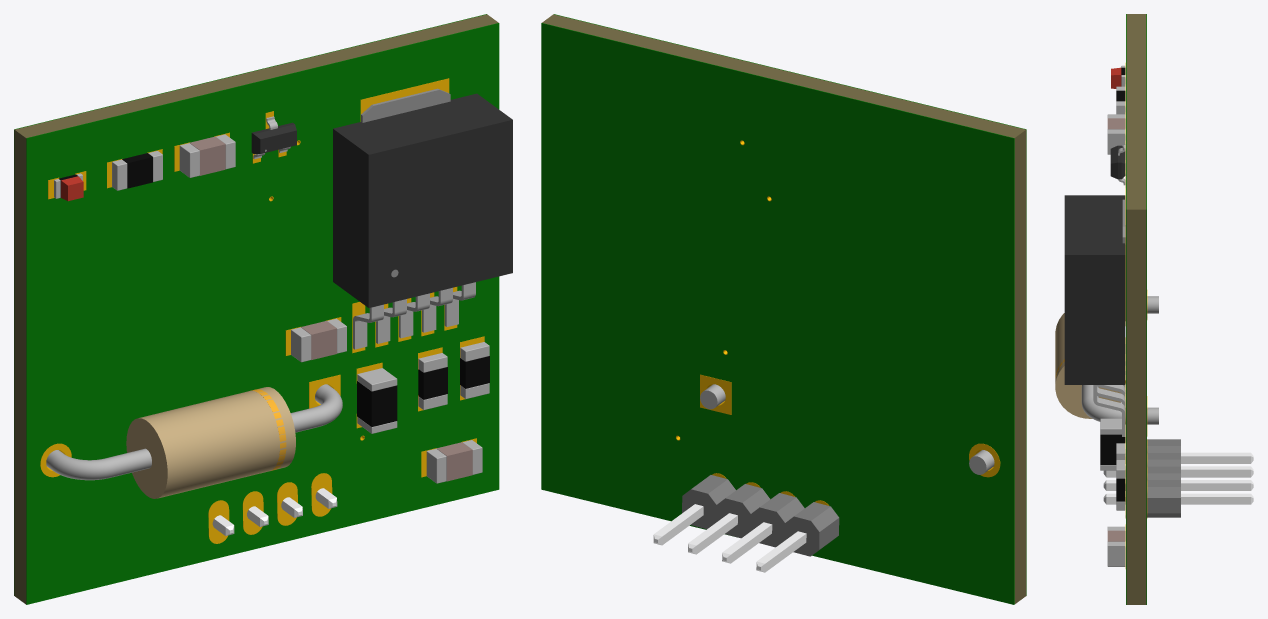
The model's file is Regulator Board.obj.
The picture shows the model from 3 angles, left to right: view 1: azimuth 30°, elevation 25°; view 2: azimuth 150°, elevation 25°; view 3: azimuth 270°, elevation 25°; orthographic projection. The views are drawn at different scales.
Visible parts, largest first — view 1: Body1:2, Body2:3, Body1:12, Board, Body4, Body3, Body1:7, Body4:1, Body1:6, Body1:14, Body1:5, Body1:10 (+13 smaller); view 2: Body1:3, Board, Body1:4, Body2:1, Body1:2; view 3: Board, Body2:3, Body1:4, Body1:12, Body1:7, Body3:1, Body1:6, Body1:14, Body1:2, Body1:3, Body1:9, Body4 (+4 smaller).
Part boxes in pixels (x1,y1,x2,y2): Body1:2: (26,23,499,604); Body2:3: (333,93,512,307); Body1:12: (126,387,295,498); Board: (14,14,498,604); Body4: (48,78,484,477); Body3: (40,374,340,543); Body1:7: (357,368,397,433); Body4:1: (46,448,151,480); Body1:6: (426,440,482,483); Body1:14: (179,134,235,177); Body1:5: (291,318,346,362); Body1:10: (418,353,447,409); Body1:3: (541,23,1014,604); Board: (542,14,1026,603); Body1:4: (653,475,839,572); Body2:1: (700,374,1000,505); Body1:2: (554,14,1026,595); Board: (1126,14,1146,604); Body2:3: (1064,195,1125,384); Body1:4: (1103,439,1253,517); Body1:12: (1055,313,1121,418); Body1:7: (1100,418,1125,470); Body3:1: (1081,385,1158,424); Body1:6: (1107,526,1125,566); Body1:14: (1107,114,1125,154); Body1:2: (1126,14,1126,604); Body1:3: (1146,14,1146,604); Body1:9: (1116,460,1125,510); Body4: (1125,63,1125,568).
Size of the model in its own units: 3.5 by 3.3 by 1.5.
